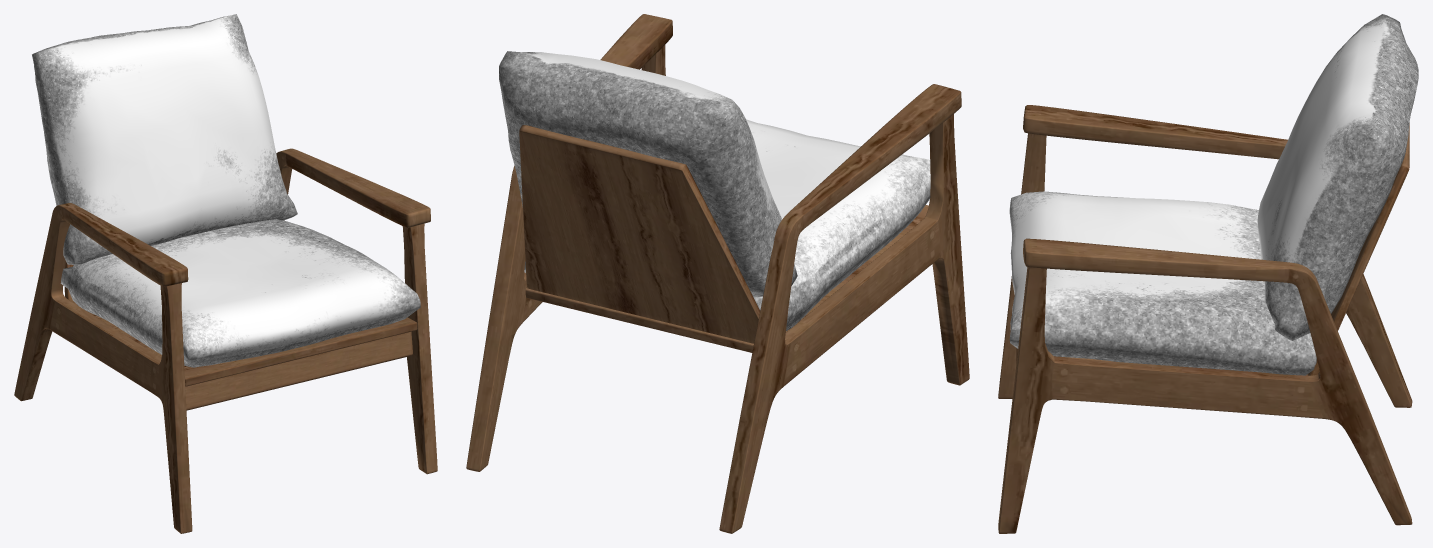
File: armchair.glb
The picture shows the model from 3 angles, left to right: view 1: azimuth 30°, elevation 25°; view 2: azimuth 150°, elevation 25°; view 3: azimuth 270°, elevation 25°; orthographic projection. The views are drawn at different scales.
Parts seen in each view (by area): view 1: modern_arm_chair_01; view 2: modern_arm_chair_01; view 3: modern_arm_chair_01.
Boxes of the visible parts, <box> form: modern_arm_chair_01: <box>14,14,437,533</box>; modern_arm_chair_01: <box>466,14,969,533</box>; modern_arm_chair_01: <box>998,14,1418,533</box>.
Bounding box in the file's own units: 0.8203 × 1.02 × 0.9865.
2 materials, 2 textured.
